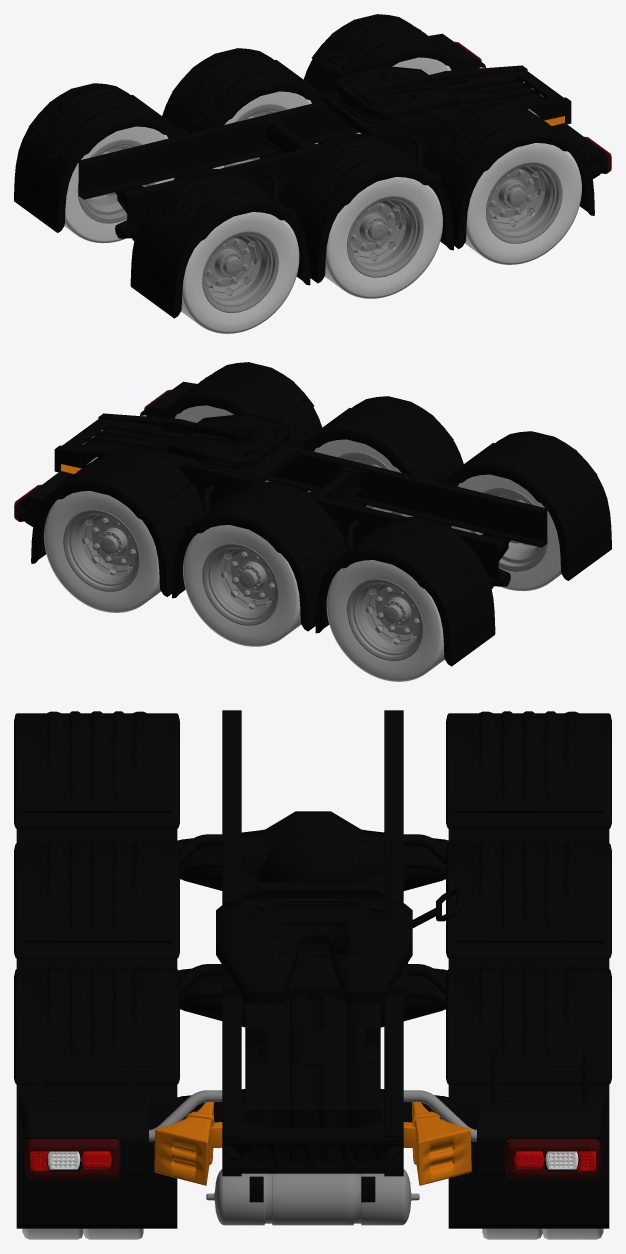
File: lorry.obj
3 views of the same model, one above another, from view 1: azimuth 30°, elevation 25°; view 2: azimuth 150°, elevation 25°; view 3: azimuth 270°, elevation 25° (orthographic). The views are drawn at different scales.
Parts seen in each view (by area): view 1: rear_arches.002, rear_arches.003, polySurface110.002, rear_left_rim_1.002, pCylinder5.004, pCylinder5.003, saddle.001, pCylinder6.002, rear_left_rim_1.003, polySurface108.002, chasis.003; view 2: rear_arches.002, rear_arches.003, polySurface110.002, rear_left_rim_1.002, pCylinder5.004, pCylinder5.003, saddle.001, pCylinder6.002, rear_left_rim_1.003, polySurface108.002, chasis.003; view 3: rear_arches.002, rear_arches.003, polySurface110.002, saddle.001, polySurface108.002, chasis.003, polySurface109.002, wheel_chocks.001, GlassRed.002, chasis.002, pCylinder6.002, polySurface92.002 (+2 smaller).
Part boxes in pixels (x1,y1,x2,y2): rear_arches.002: (162, 14, 594, 283); rear_arches.003: (14, 83, 310, 318); polySurface110.002: (78, 65, 571, 231); rear_left_rim_1.002: (224, 104, 562, 277); pCylinder5.004: (64, 126, 299, 333); pCylinder5.003: (212, 91, 442, 298); saddle.001: (319, 52, 458, 135); pCylinder6.002: (355, 57, 581, 264); rear_left_rim_1.003: (77, 139, 278, 312); polySurface108.002: (429, 33, 611, 178); chasis.003: (115, 185, 143, 240); rear_arches.002: (31, 362, 463, 631); rear_arches.003: (315, 431, 611, 666); polySurface110.002: (54, 413, 547, 579); rear_left_rim_1.002: (63, 452, 401, 625); pCylinder5.004: (326, 474, 561, 681); pCylinder5.003: (183, 439, 413, 646); saddle.001: (167, 414, 303, 487); pCylinder6.002: (44, 405, 270, 612); rear_left_rim_1.003: (347, 487, 548, 660); polySurface108.002: (14, 381, 196, 526); chasis.003: (482, 533, 510, 588); rear_arches.002: (14, 841, 611, 1228); rear_arches.003: (14, 711, 611, 877); polySurface110.002: (222, 710, 403, 1202); saddle.001: (216, 888, 462, 1002); polySurface108.002: (19, 1094, 606, 1177); chasis.003: (177, 811, 448, 890); polySurface109.002: (206, 1169, 419, 1225); wheel_chocks.001: (154, 1102, 471, 1185); GlassRed.002: (25, 1139, 600, 1177); chasis.002: (177, 968, 448, 1147); pCylinder6.002: (22, 1228, 603, 1239); polySurface92.002: (117, 1090, 508, 1141).
Size of the model in its own units: 4.02 by 1.2 by 2.48.
